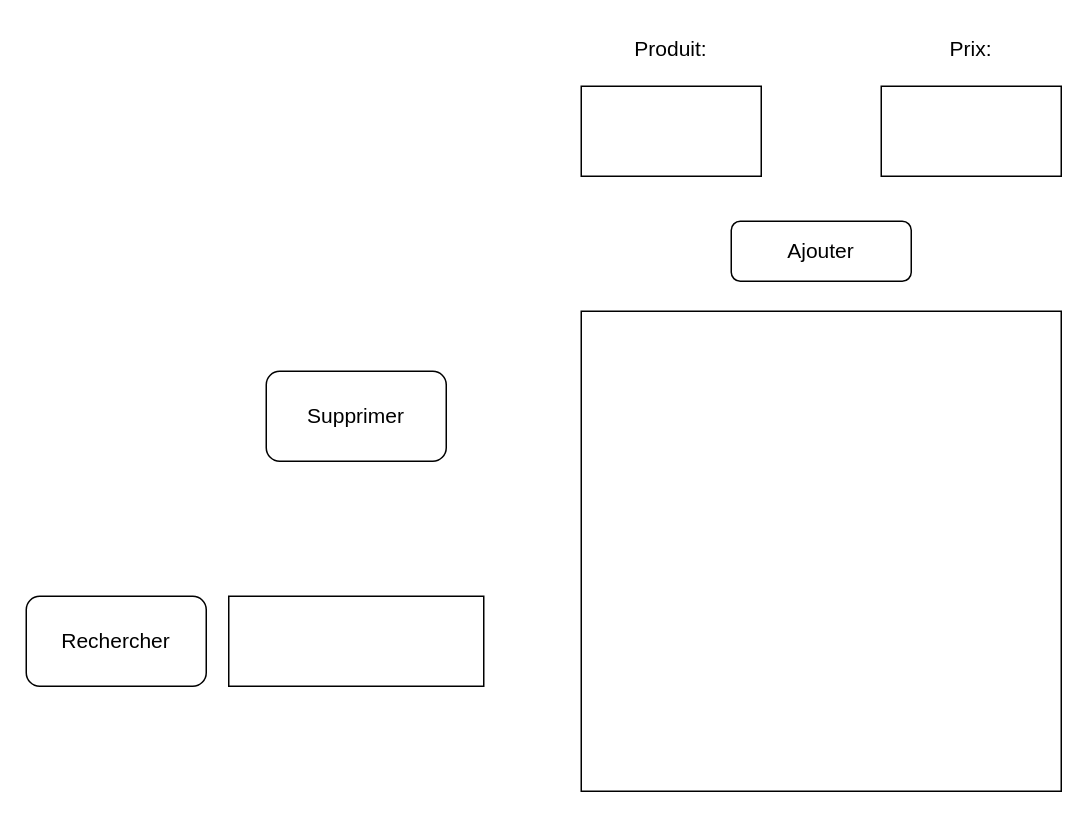
This 1088x818 diagram has some shape labels left out. The centre of each missing label's shape, as x and y in pixels:
Ceci est la listBox: (820,550)
Tapez votre recherche:: (355,640)
